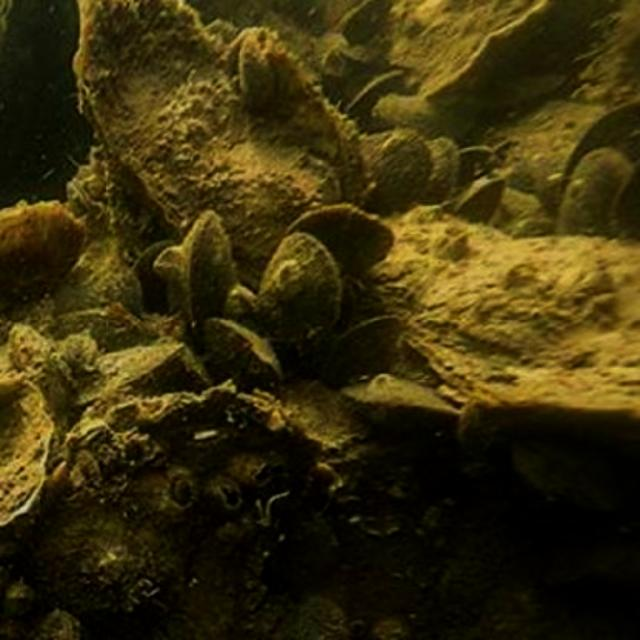Oyster-Closed: (75, 0, 368, 288), (359, 213, 640, 412), (262, 240, 347, 345), (0, 202, 84, 304), (0, 376, 52, 528), (167, 212, 238, 317), (341, 374, 454, 434), (290, 215, 389, 282), (557, 148, 632, 235), (202, 319, 284, 387), (321, 319, 400, 388), (371, 134, 428, 213), (236, 27, 283, 110), (425, 137, 457, 203)
